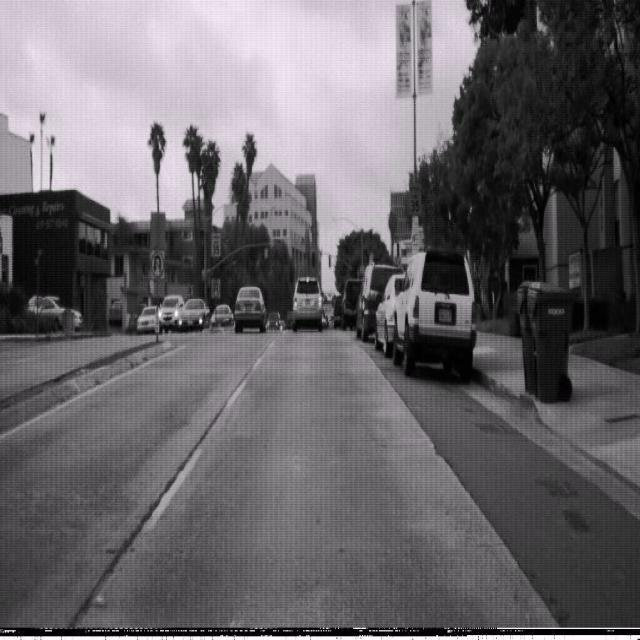speedLimit35: (407, 181, 422, 216), (210, 230, 222, 258)
